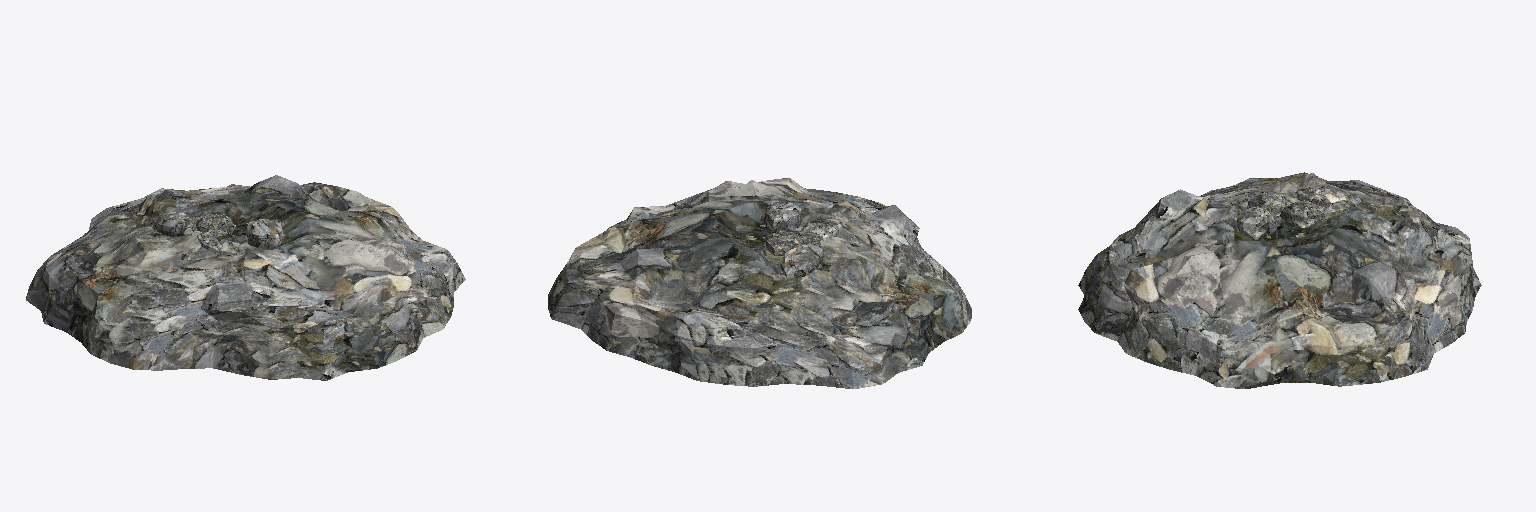
3 renders of one model, left to right at view 1: azimuth 30°, elevation 25°; view 2: azimuth 150°, elevation 25°; view 3: azimuth 270°, elevation 25°, orthographic.
Parts seen in each view (by area): view 1: rubble1; view 2: rubble1; view 3: rubble1.
Boxes of the visible parts, x1,y1,x2,y2 form: rubble1: [26, 175, 465, 380]; rubble1: [548, 178, 971, 388]; rubble1: [1078, 172, 1481, 388].
Bounding box in the file's own units: 115 × 26.16 × 109.
1 materials, 1 textured.